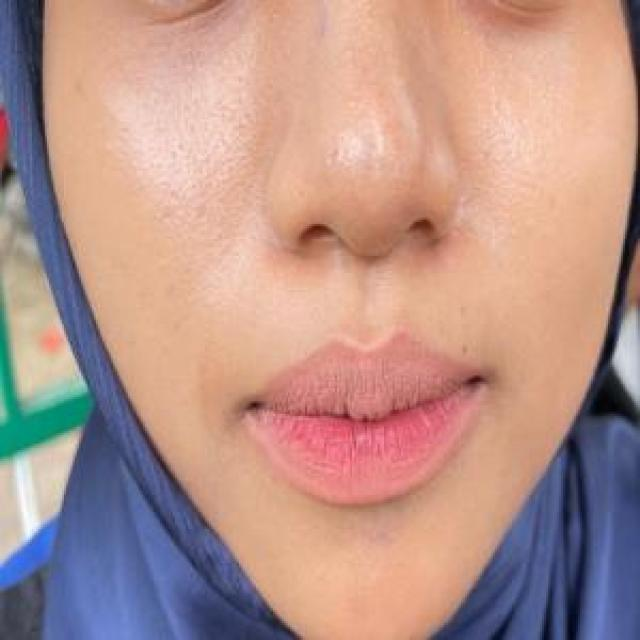oily: (45, 36, 377, 336), (475, 38, 640, 364), (296, 0, 450, 250)
